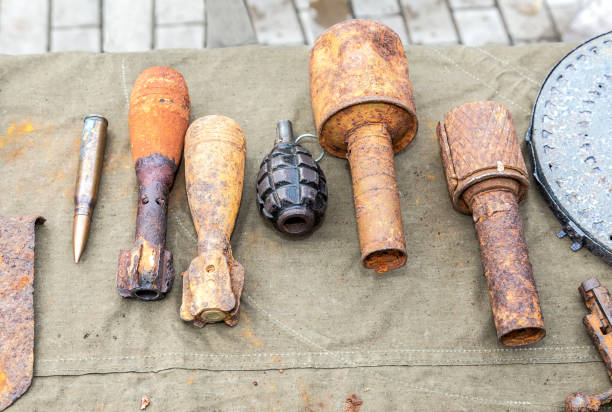e1: (257, 121, 331, 239)
